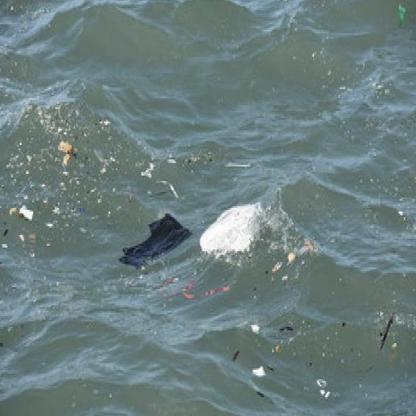plastic bag: (121, 214, 190, 269)
